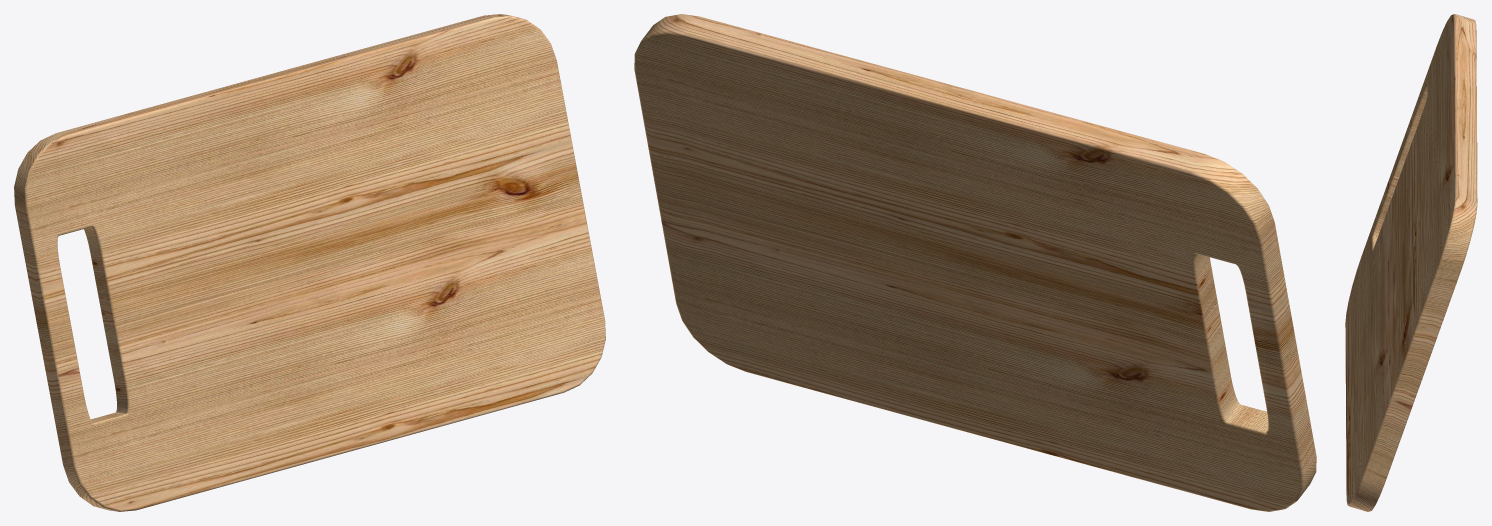
3 views of the same model, side by side, from view 1: azimuth 30°, elevation 25°; view 2: azimuth 150°, elevation 25°; view 3: azimuth 270°, elevation 25° (orthographic). The views are drawn at different scales.
Visible parts, largest first — view 1: zhenban; view 2: zhenban; view 3: zhenban.
Boxes of the visible parts, <box> form: zhenban: <box>14,14,605,511</box>; zhenban: <box>634,14,1316,511</box>; zhenban: <box>1345,14,1477,511</box>.
Bounding box in the file's own units: 23.02 × 14.41 × 5.4.
